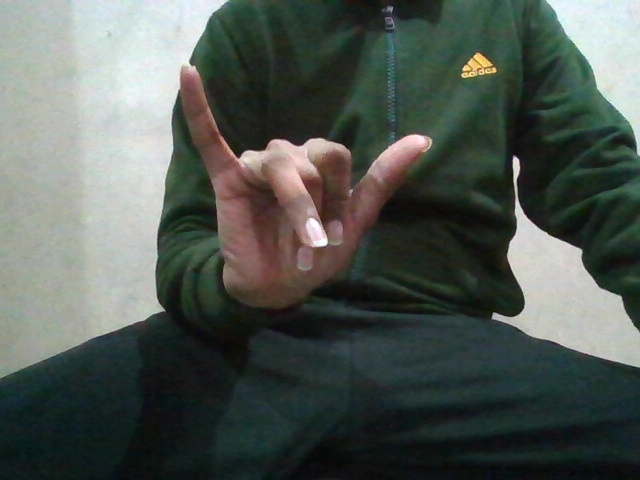Y: (175, 64, 431, 310)
